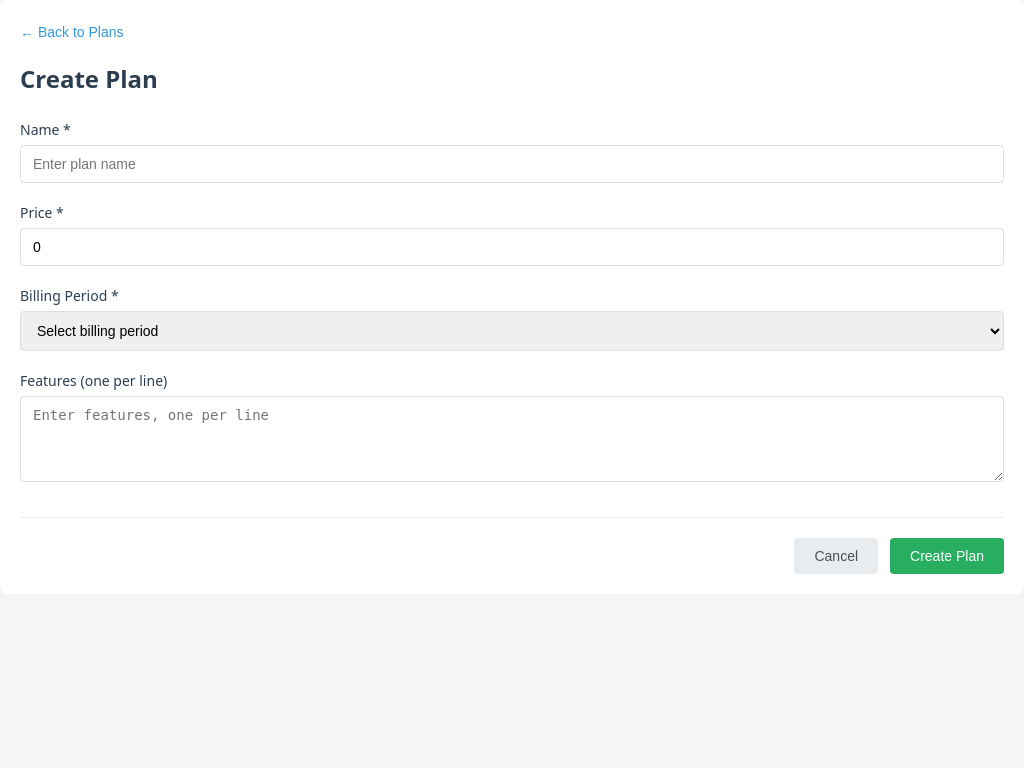
Test: PlanForm.vue › Common functionality › shows loading state during submission
Step 1. Type "New Plan" into the field with test id "plan-name" → point(512, 164), box top-left (20, 145), bottom-right (1004, 183)
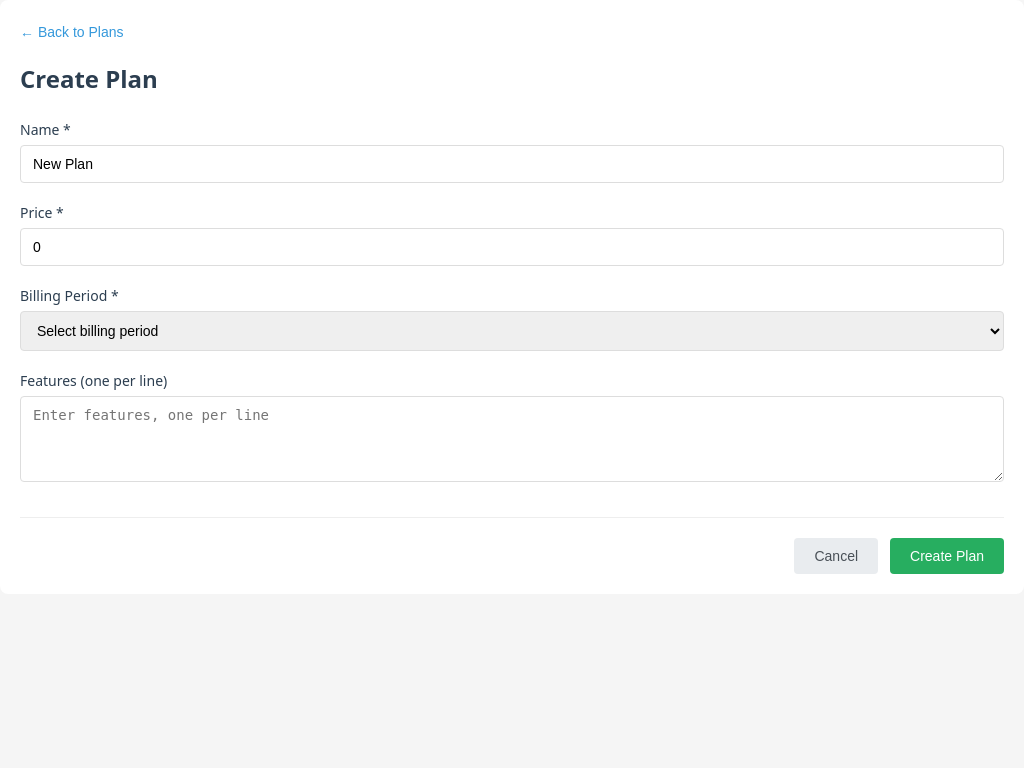
Step 2. Replace the text in the number field with test id "plan-price" with "19.99" → point(512, 247), box top-left (20, 228), bottom-right (1004, 266)
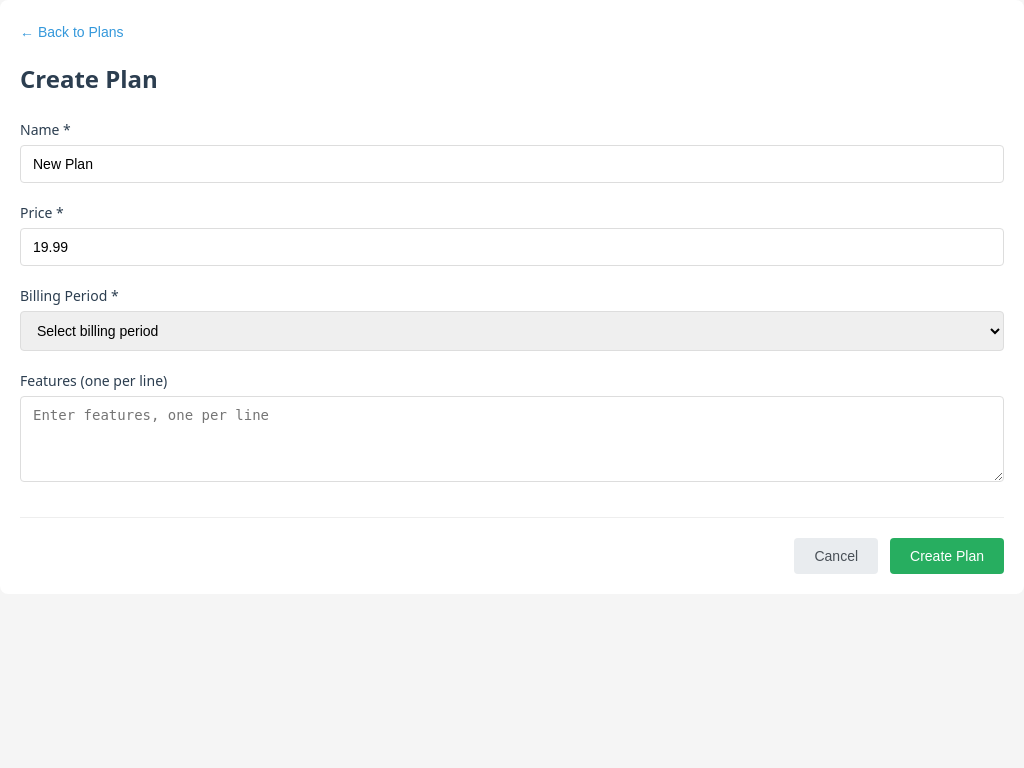
Step 3. Select "Monthly" in the dropdown with test id "plan-billing" → point(512, 331), box top-left (20, 311), bottom-right (1004, 351)
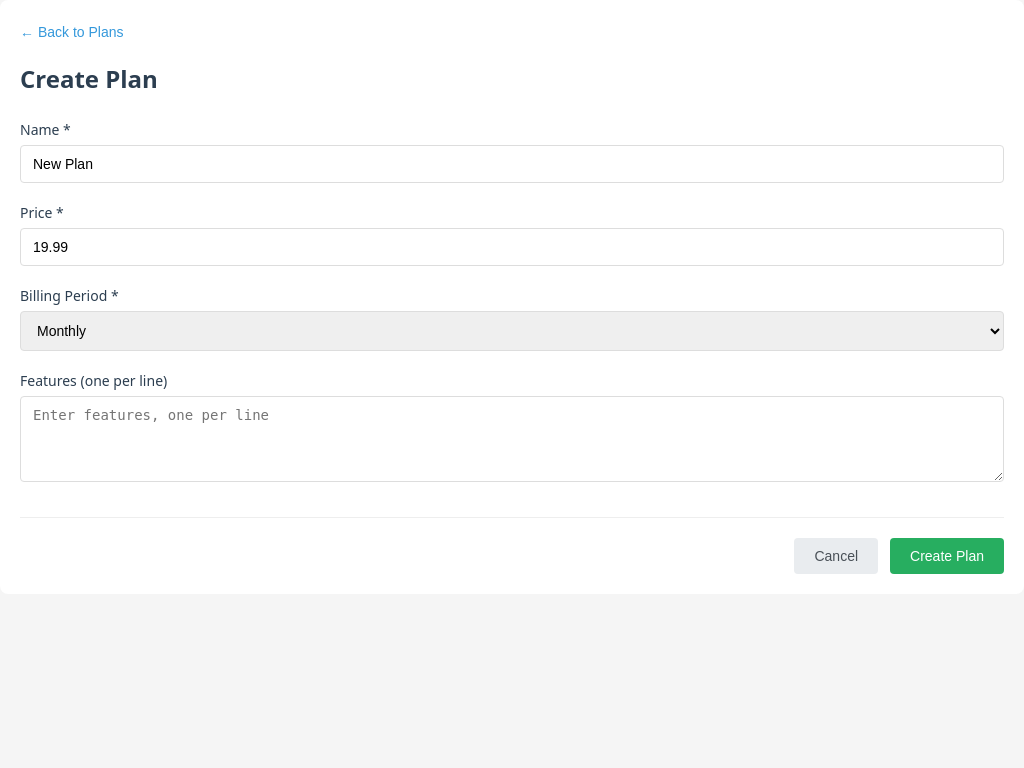
Step 4. Click the button with test id "submit-button" → point(947, 556), box top-left (890, 538), bottom-right (1004, 574)
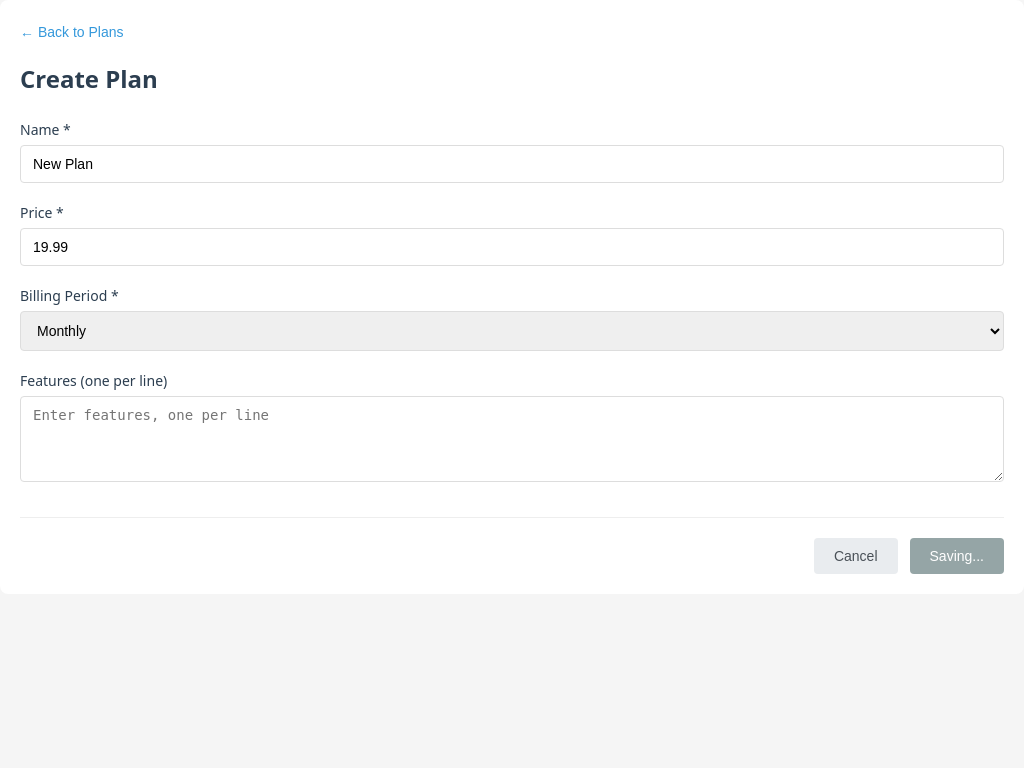
Expected: the button with test id "submit-button" is disabled, top-left (910, 538), bottom-right (1004, 574)
